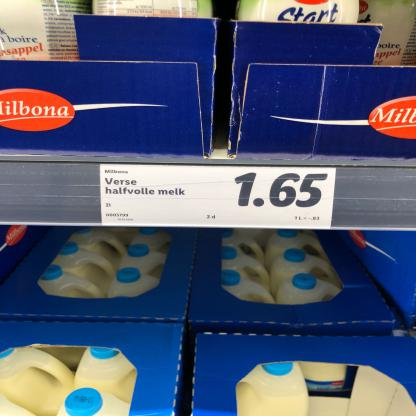prtg: (101, 165, 338, 230)
